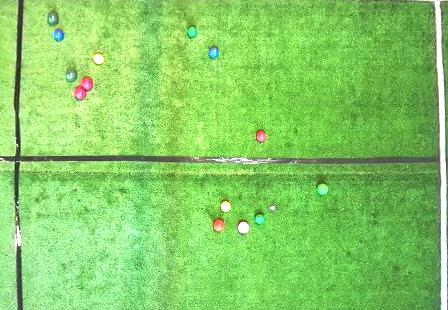blue: (208, 46, 219, 59), (54, 29, 64, 41)
green: (47, 12, 59, 26), (187, 26, 198, 39), (66, 70, 77, 82), (317, 184, 328, 195), (254, 213, 265, 224)
red: (74, 87, 87, 100), (213, 219, 225, 232), (81, 78, 93, 91), (238, 222, 249, 234), (256, 130, 266, 143)
vline: (1, 0, 23, 309), (431, 0, 447, 310)
white: (270, 206, 275, 211)
yellow: (220, 201, 231, 212), (94, 54, 104, 64)
